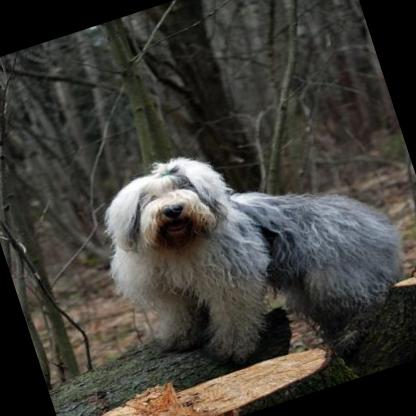Old_English_sheepdog: (75, 96, 416, 391)
